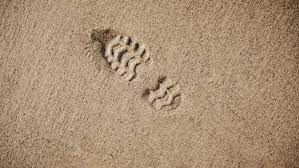human_footprint: (83, 19, 187, 126)
